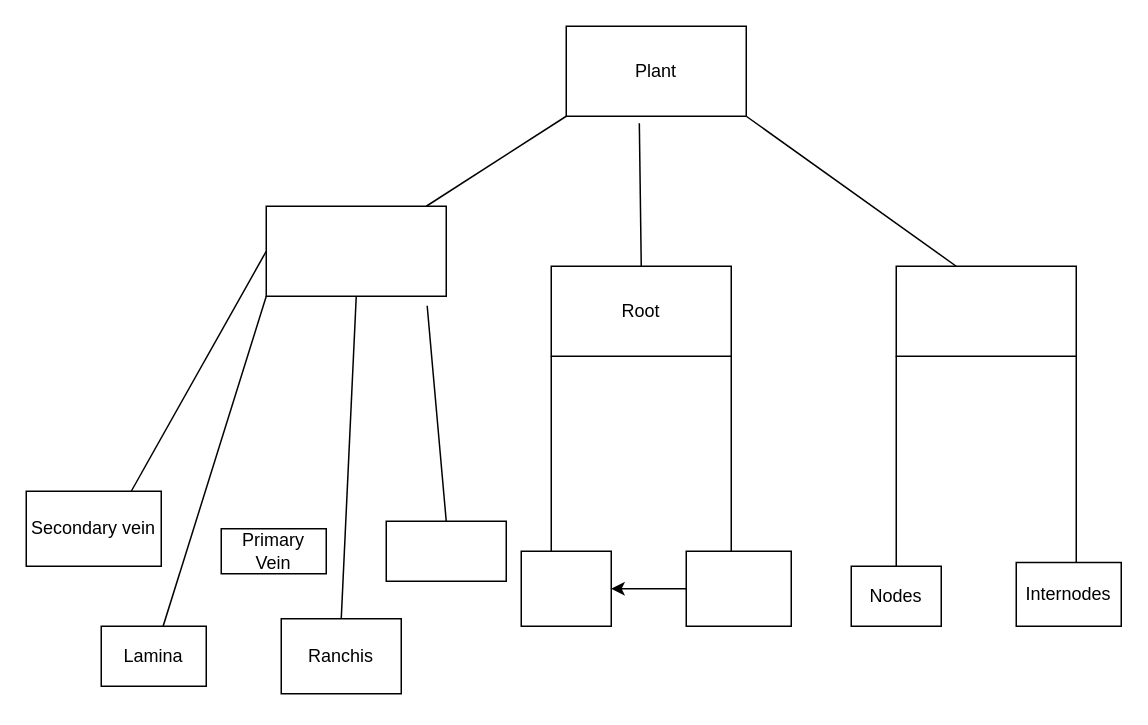
Image size: 1148x725. Some labels were removed from this diagram. Each missing label, with the box of its shape:
Leaf: (265, 205, 446, 296)
Primary roots: (520, 550, 611, 626)
Secondary roots: (685, 550, 791, 626)
Stem: (895, 265, 1076, 356)
